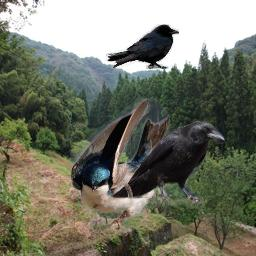Crow: (107, 120, 225, 209), (106, 24, 179, 69)
Swallow: (70, 98, 171, 233)
